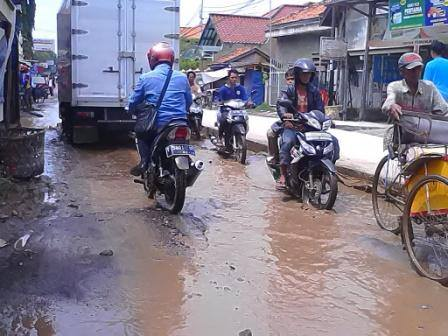plate: (164, 142, 195, 160), (306, 131, 334, 143)
